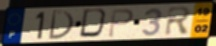1: (34, 11, 46, 40)
3: (140, 6, 164, 37)
D: (77, 7, 111, 39), (47, 9, 76, 40)
P: (107, 8, 135, 38)
R: (163, 6, 193, 37)
